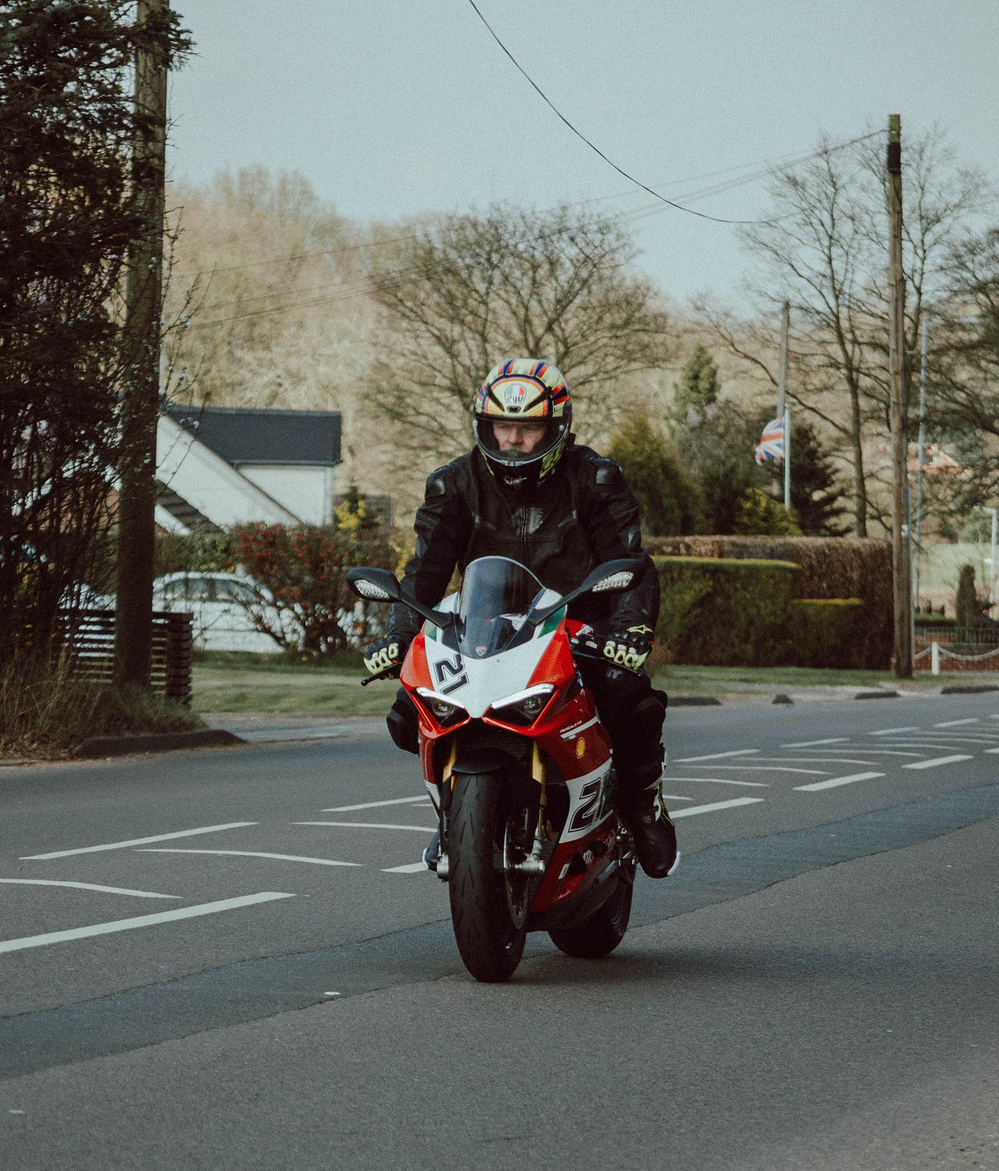helmet: (471, 357, 574, 495)
